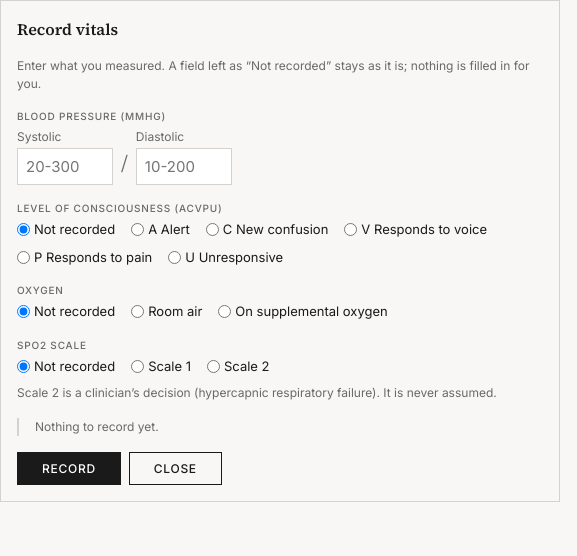
a valid draft is one request carrying only what was entered › locks while the request is in flight, so a double click cannot send it twice
Type "130" into the field labelled "Systolic" at coordinates (65, 166), box [17,148,113,185]
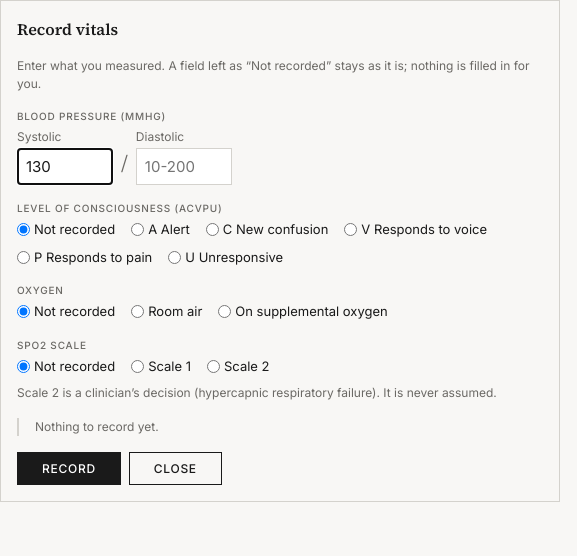
Type "84" into the field labelled "Diastolic" at coordinates (184, 166), box [136,148,232,185]
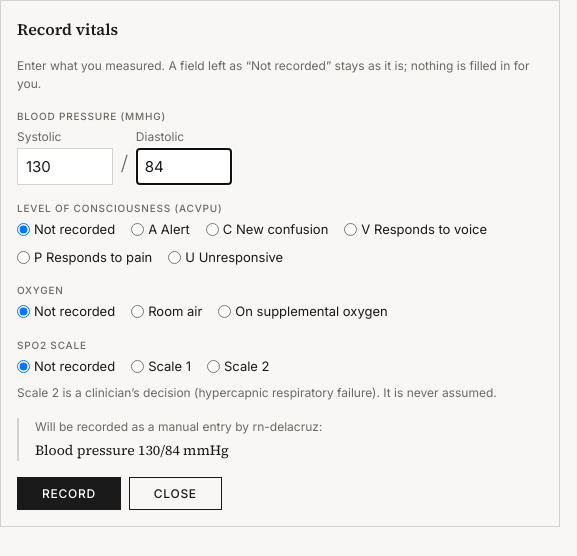
Click the button "Record" at coordinates (69, 494), box [17,477,121,510]
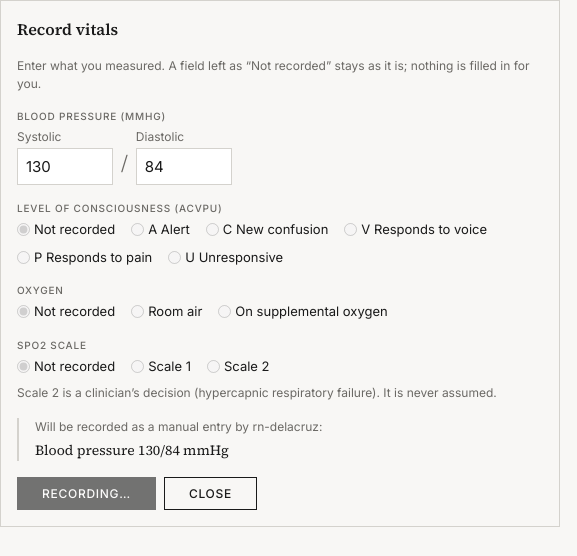
Expected: the button "Recording…" is disabled
Expected: the element showing "Blood pressure (mmHg) Systolic / Diastolic" is disabled, [17,110,232,185]
Expected: the element that starts with "Level of consciousness (ACVPU)" is disabled, [17,201,543,267]
Click the button "Recording…" at coordinates (86, 494), box [17,477,156,510]
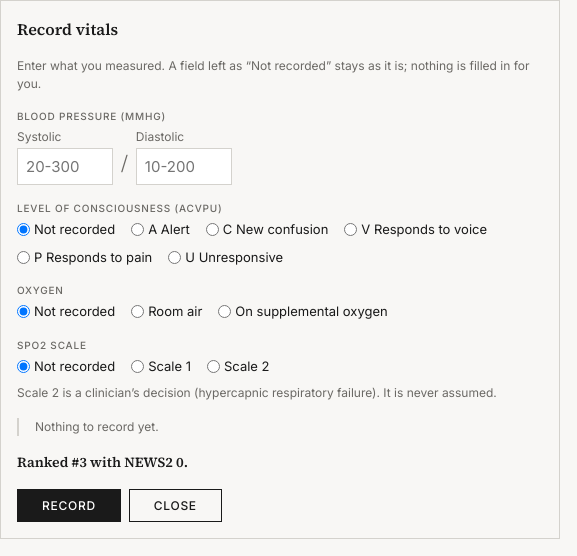
Expected: the text "Ranked #3 with NEWS2 0." is shown, [17,452,188,472]
